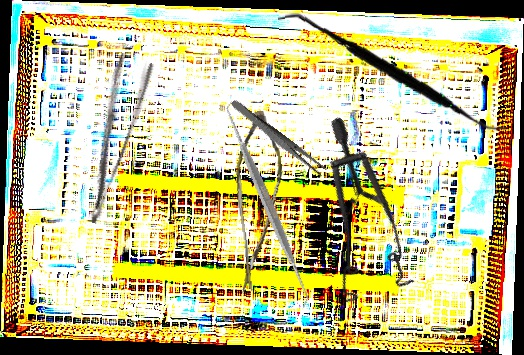Dressing Forceps: (62, 51, 158, 226), (228, 98, 328, 178)
Micro Scissor: (220, 109, 297, 296)
Spatula Surgical: (161, 100, 374, 309), (277, 2, 507, 146)
Speculum: (250, 115, 454, 324)
